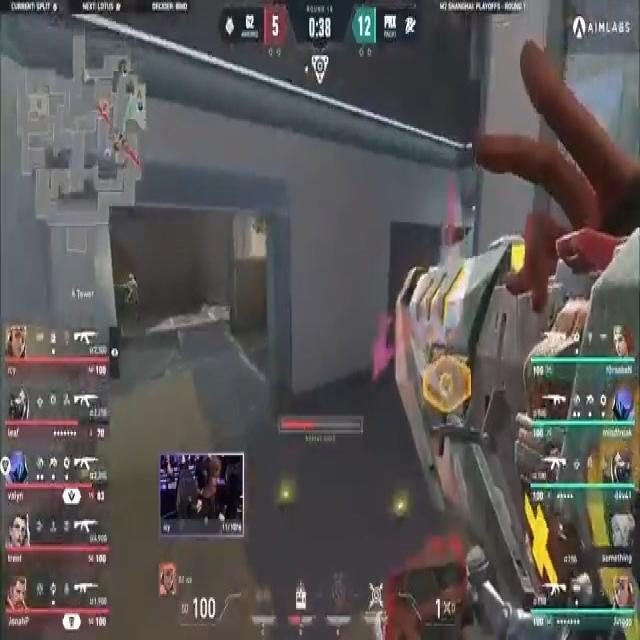ally: (116, 267, 144, 326)
